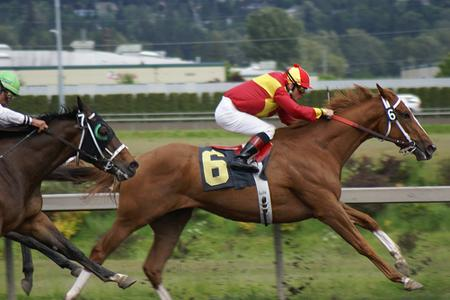person: (216, 64, 329, 174)
